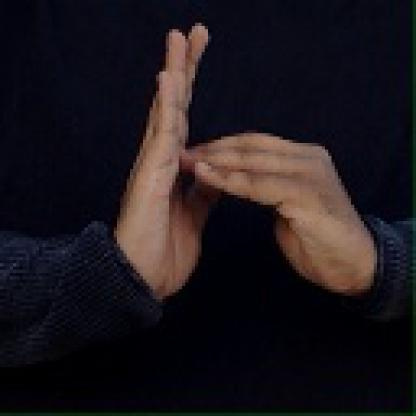Z: (115, 15, 356, 317)
